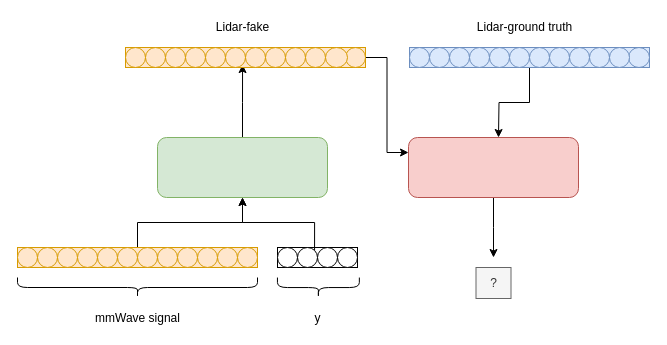
Some shapes in this 667 by 345 pixel diagram are drawn without their labels. Each missing label, with the box of its shape:
Discriminator: (408, 136, 578, 198)
Generator: (156, 136, 328, 198)
